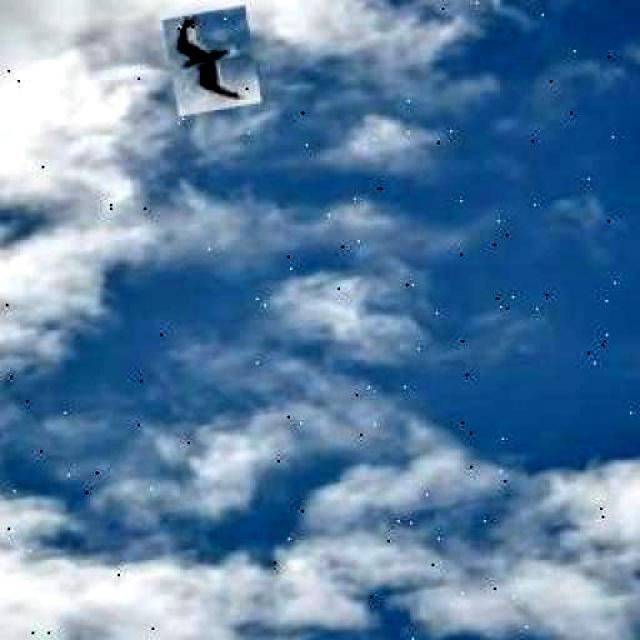airplane: (161, 4, 261, 116)
